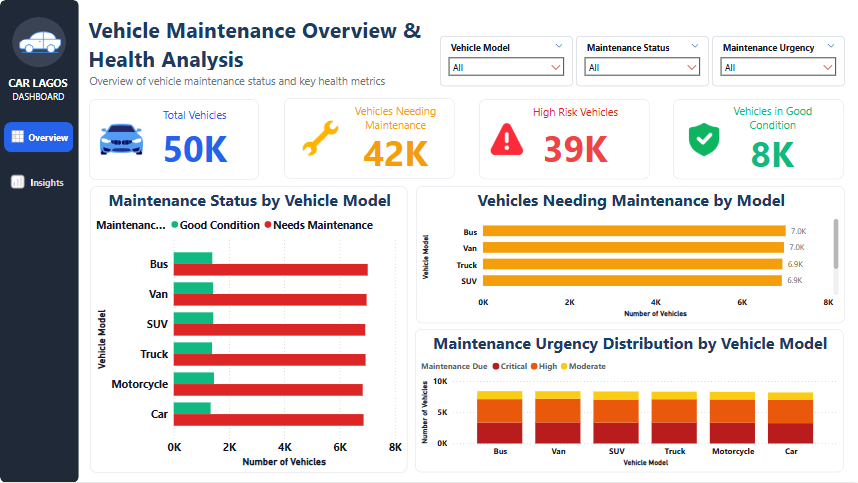

This screenshot's page, from the dashboard's own definition file:
{"tool":"powerbi","page":{"name":"Page 1","canvas":[1280,720],"ordinal":0},"visuals":[{"type":"shape","box":[0,0,117.6,720],"z":0,"group":"g10"},{"type":"clusteredBarChart","title":"Vehicles Needing Maintenance by Model","fields":{"Category":["car_rental vw_vehicle_base.Vehicle_Model"],"Y":["CountNonNull(car_rental vw_vehicle_base.Vehicle_Model)"]},"box":[620.2,277.6,640.5,205],"z":0},{"type":"group","id":"g1","title":"Group 3","box":[7.3,107.3,104.3,55.8],"z":1000,"group":"g10"},{"type":"columnChart","title":"Maintenance Urgency Distribution by Vehicle Model","fields":{"Category":["car_rental vw_vehicle_base.Vehicle_Model"],"Y":["CountNonNull(car_rental vw_vehicle_base.Vehicle_Model)"],"Series":["car_rental vw_vehicle_base.Maintenance_Due"]},"box":[618.8,491.6,640.5,214],"z":1000},{"type":"group","id":"g2","title":"Group 7","box":[5.9,182.7,104.3,45.6],"z":2000,"group":"g10"},{"type":"clusteredBarChart","title":"Maintenance Status by Vehicle Model","fields":{"Category":["car_rental vw_vehicle_base.Vehicle_Model"],"Y":["CountNonNull(car_rental vw_vehicle_base.Vehicle_Model)"],"Series":["car_rental vw_vehicle_base.Maintenance_Status"]},"box":[134.5,277.6,474.2,428],"z":2000},{"type":"textbox","box":[127.2,16.2,508.4,95.5],"z":3000},{"type":"group","id":"g3","title":"Group 8","box":[9.9,255.7,98.4,33.8],"z":3000,"group":"g10"},{"type":"group","id":"g4","title":"Group 9","box":[17.6,25,82.3,76.4],"z":4000,"group":"g10"},{"type":"textbox","box":[128.7,104.1,452.5,33.3],"z":4000},{"type":"slicer","fields":{"Values":["car_rental vw_vehicle_base.Vehicle_Model"]},"box":[656.8,54.4,198.4,74.9],"z":5000},{"type":"slicer","fields":{"Values":["car_rental vw_vehicle_base.Owner_Type"]},"box":[859.6,54.4,198.4,74.9],"z":6000},{"type":"slicer","fields":{"Values":["car_rental vw_vehicle_base.Maintenance_Due"]},"box":[1062.4,54.4,198.4,74.9],"z":7000},{"type":"group","id":"g5","title":"Group 1","box":[423.6,146.9,255.7,120],"z":8000},{"type":"shape","box":[133,147,253.6,120.7],"z":9000,"group":"g8"},{"type":"group","id":"g6","title":"Group 2","box":[714.2,147.9,255,120],"z":9000},{"type":"group","id":"g7","title":"Group 4","box":[1004.8,147,255,120],"z":10000},{"type":"card","title":"Total Vehicles","fields":{"Values":["car_rental vw_avg_mileage_fuel_efficiency.kpi_total_vehicles"]},"box":[210.9,160.2,160.2,94],"z":10000,"group":"g8"},{"type":"group","id":"g8","title":"Group 5","box":[133,147,253.6,120.7],"z":11000},{"type":"image","box":[143.4,166.9,76.1,80.9],"z":11000,"group":"g8"},{"type":"textbox","box":[7.3,107.3,101.4,36.7],"z":13501,"group":"g1"},{"type":"shape","box":[17.6,25,80.8,74.9],"z":14000,"group":"g4"},{"type":"textbox","box":[13.2,129.3,98.4,33.8],"z":14002,"group":"g1"},{"type":"shape","box":[1004.8,147,255,120],"z":15000,"group":"g7"},{"type":"shape","box":[423.6,146.9,255,120.6],"z":16000,"group":"g5"},{"type":"shape","box":[714.2,147.9,255,120],"z":16000,"group":"g6"},{"type":"card","title":"Vehicles in Good Condition","fields":{"Values":["car_rental vw_avg_mileage_fuel_efficiency.kpi_good_condition_vehicles"]},"box":[1076.8,154.3,154.3,101.4],"z":16000,"group":"g7"},{"type":"shape","box":[5.9,182.7,103.5,45],"z":16000,"group":"g2"},{"type":"image","box":[7.8,190.2,37.9,27.5],"z":16002,"group":"g9"},{"type":"card","title":"Vehicles Needing Maintenance","fields":{"Values":["car_rental vw_avg_mileage_fuel_efficiency.kpi_vehicles_needing_maintenance"]},"box":[513,155.5,153.9,103.5],"z":16500,"group":"g5"},{"type":"image","box":[1018.6,160.8,65.8,93.8],"z":16501,"group":"g7"},{"type":"group","id":"g9","title":"Group 6","box":[7.8,190.2,103.5,30],"z":17000,"group":"g2"},{"type":"textbox","box":[37,191.4,74.4,28.8],"z":17002,"group":"g9"},{"type":"card","title":"High Risk Vehicles","fields":{"Values":["car_rental vw_avg_mileage_fuel_efficiency.kpi_high_risk_vehicles"]},"box":[781.5,157.6,153.3,103.4],"z":17500,"group":"g6"},{"type":"image","box":[434.9,159,84.6,96.4],"z":17501,"group":"g5"},{"type":"textbox","box":[39.3,259,69.1,30.9],"z":17502,"group":"g3"},{"type":"image","box":[714.2,177.6,83.1,60.3],"z":18000,"group":"g6"},{"type":"image","box":[9.9,255.7,32.3,32.3],"z":18003,"group":"g3"},{"type":"image","box":[19.1,25,80.8,74.9],"z":18005,"group":"g4"},{"type":"group","id":"g10","title":"Group 10","box":[0,0,117.6,720],"z":18007}]}

Visuals, with their boxes on the page's 1280x720 design canvas (x1, y1, x2, y2). These are canvas units, not pixel positions in the 858x483 screenshot, which may show the page scaled, cropped or inside an application window:
shape: [x1=0, y1=0, x2=118, y2=720]
"Vehicles Needing Maintenance by Model" clusteredBarChart: [x1=620, y1=278, x2=1261, y2=483]
"Group 3" group: [x1=7, y1=107, x2=112, y2=163]
"Maintenance Urgency Distribution by Vehicle Model" columnChart: [x1=619, y1=492, x2=1259, y2=706]
"Group 7" group: [x1=6, y1=183, x2=110, y2=228]
"Maintenance Status by Vehicle Model" clusteredBarChart: [x1=134, y1=278, x2=609, y2=706]
textbox: [x1=127, y1=16, x2=636, y2=112]
"Group 8" group: [x1=10, y1=256, x2=108, y2=290]
"Group 9" group: [x1=18, y1=25, x2=100, y2=101]
textbox: [x1=129, y1=104, x2=581, y2=137]
slicer - car_rental vw_vehicle_base.Vehicle_Model: [x1=657, y1=54, x2=855, y2=129]
slicer - car_rental vw_vehicle_base.Owner_Type: [x1=860, y1=54, x2=1058, y2=129]
slicer - car_rental vw_vehicle_base.Maintenance_Due: [x1=1062, y1=54, x2=1261, y2=129]
"Group 1" group: [x1=424, y1=147, x2=679, y2=267]
shape: [x1=133, y1=147, x2=387, y2=268]
"Group 2" group: [x1=714, y1=148, x2=969, y2=268]
"Group 4" group: [x1=1005, y1=147, x2=1260, y2=267]
"Total Vehicles" card: [x1=211, y1=160, x2=371, y2=254]
"Group 5" group: [x1=133, y1=147, x2=387, y2=268]
image: [x1=143, y1=167, x2=220, y2=248]
textbox: [x1=7, y1=107, x2=109, y2=144]
shape: [x1=18, y1=25, x2=98, y2=100]
textbox: [x1=13, y1=129, x2=112, y2=163]
shape: [x1=1005, y1=147, x2=1260, y2=267]
shape: [x1=424, y1=147, x2=679, y2=268]
shape: [x1=714, y1=148, x2=969, y2=268]
"Vehicles in Good Condition" card: [x1=1077, y1=154, x2=1231, y2=256]
shape: [x1=6, y1=183, x2=109, y2=228]
image: [x1=8, y1=190, x2=46, y2=218]
"Vehicles Needing Maintenance" card: [x1=513, y1=156, x2=667, y2=259]
image: [x1=1019, y1=161, x2=1084, y2=255]
"Group 6" group: [x1=8, y1=190, x2=111, y2=220]
textbox: [x1=37, y1=191, x2=111, y2=220]
"High Risk Vehicles" card: [x1=782, y1=158, x2=935, y2=261]
image: [x1=435, y1=159, x2=520, y2=255]
textbox: [x1=39, y1=259, x2=108, y2=290]
image: [x1=714, y1=178, x2=797, y2=238]
image: [x1=10, y1=256, x2=42, y2=288]
image: [x1=19, y1=25, x2=100, y2=100]
"Group 10" group: [x1=0, y1=0, x2=118, y2=720]
